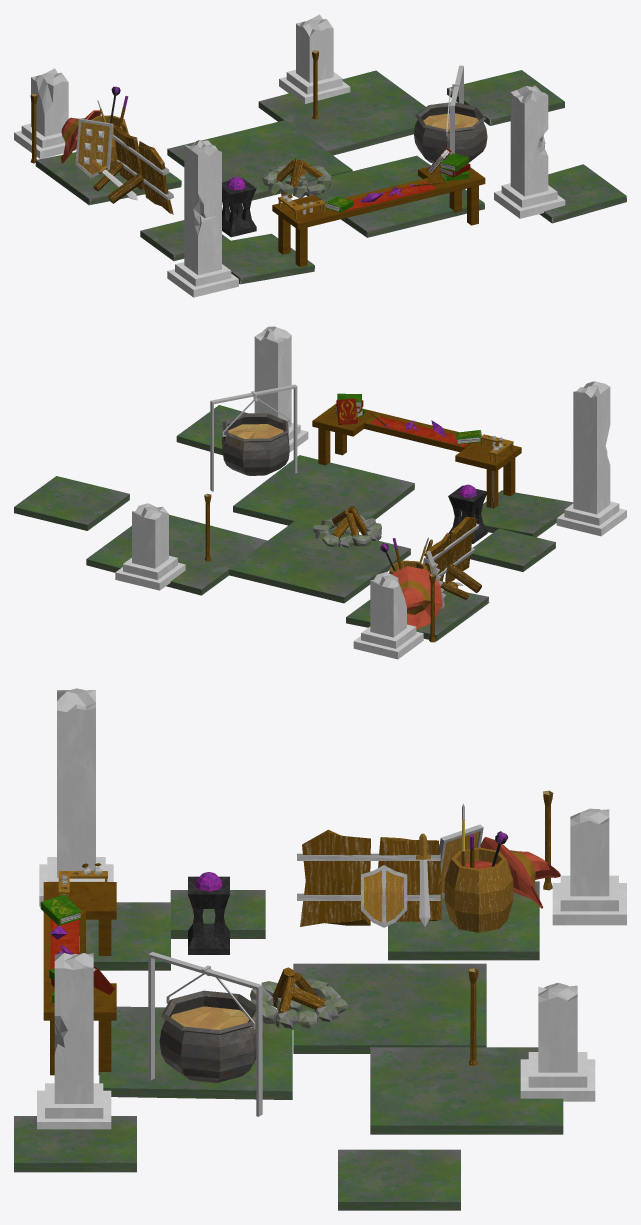
File: Checkpoint.obj
3 views of the same model, one above another, from view 1: azimuth 30°, elevation 25°; view 2: azimuth 150°, elevation 25°; view 3: azimuth 270°, elevation 25° (orthographic). The views are drawn at different scales.
Parts seen in each view (by area): view 1: checkpoint.007; view 2: checkpoint.007; view 3: checkpoint.007.
Boxes of the visible parts, left/top/right/bottom form: checkpoint.007: left=14, top=14, right=626, bottom=297; checkpoint.007: left=14, top=326, right=626, bottom=659; checkpoint.007: left=14, top=688, right=626, bottom=1210.
Bounding box in the file's own units: 39.99 × 11.77 × 31.31.
Materials: 6 (6 with a texture image).
